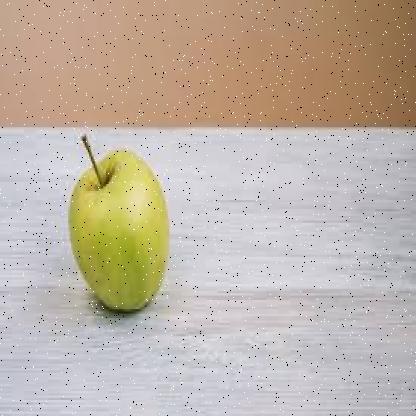apple: (67, 152, 170, 306)
